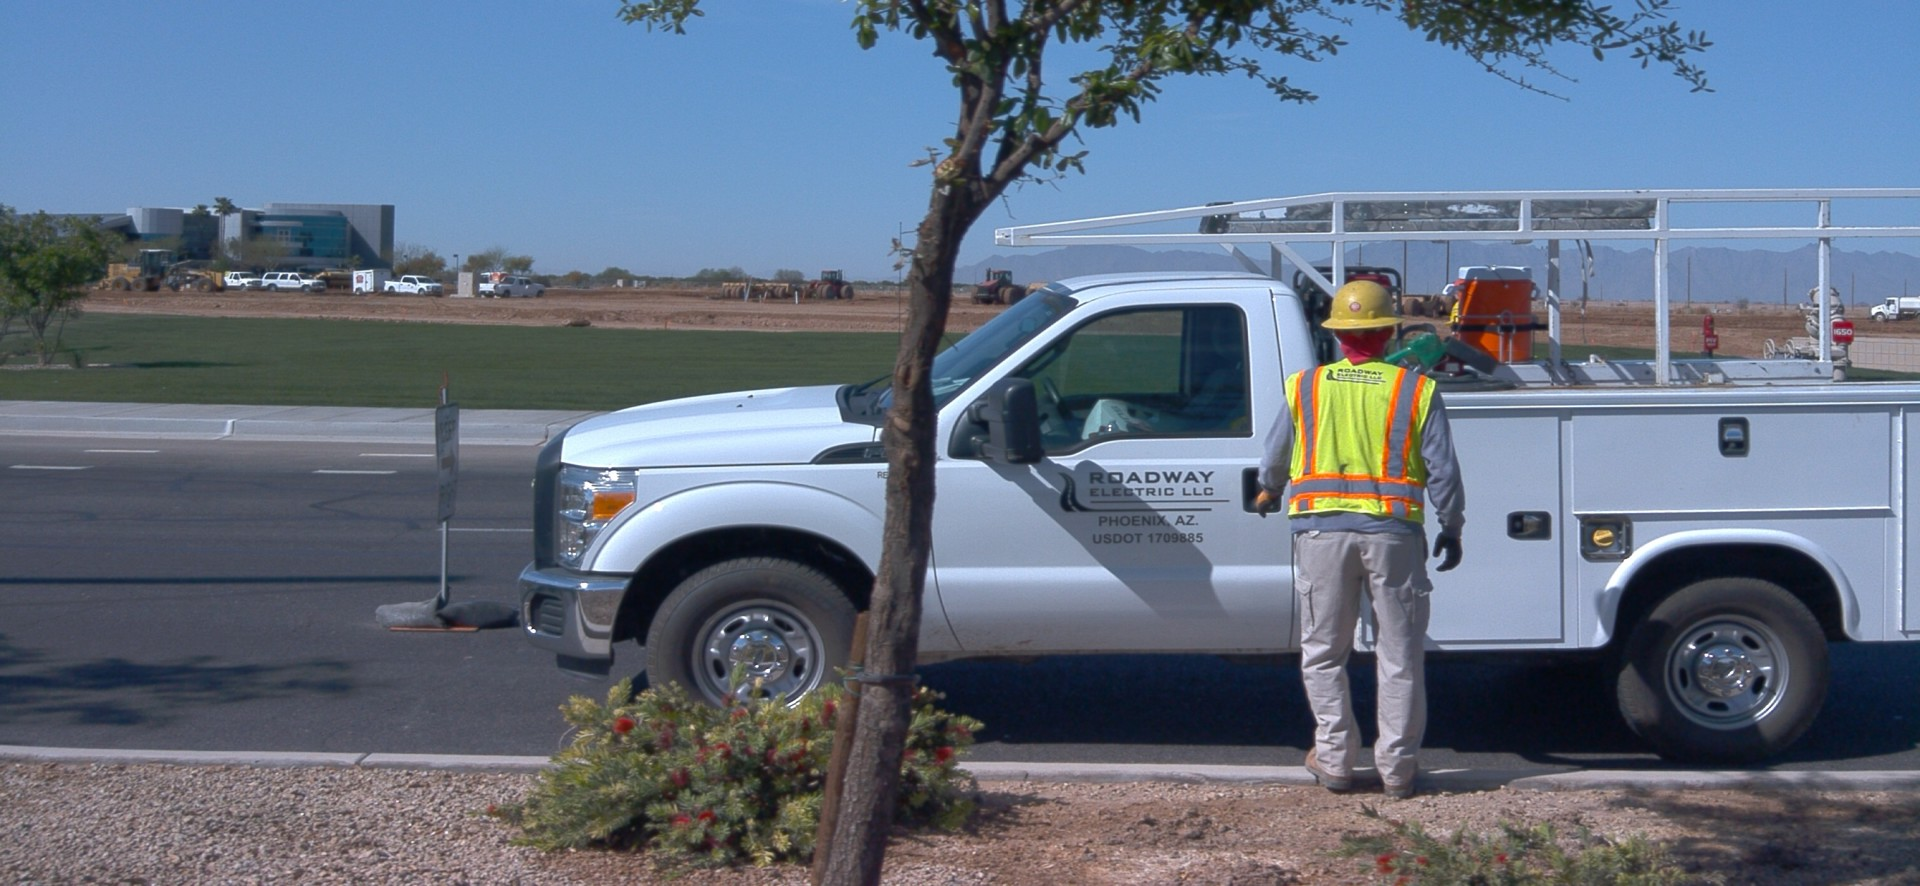TYPE_PEDESTRIAN: (1252, 276, 1468, 797)
TYPE_VEHICLE: (512, 182, 1920, 764), (106, 244, 226, 293), (971, 270, 1029, 309), (260, 270, 328, 294), (1870, 294, 1920, 325), (812, 268, 853, 303), (477, 279, 545, 300), (382, 275, 445, 297), (352, 269, 393, 298), (1395, 293, 1446, 316), (311, 269, 361, 290), (721, 287, 789, 302), (222, 271, 264, 291)
